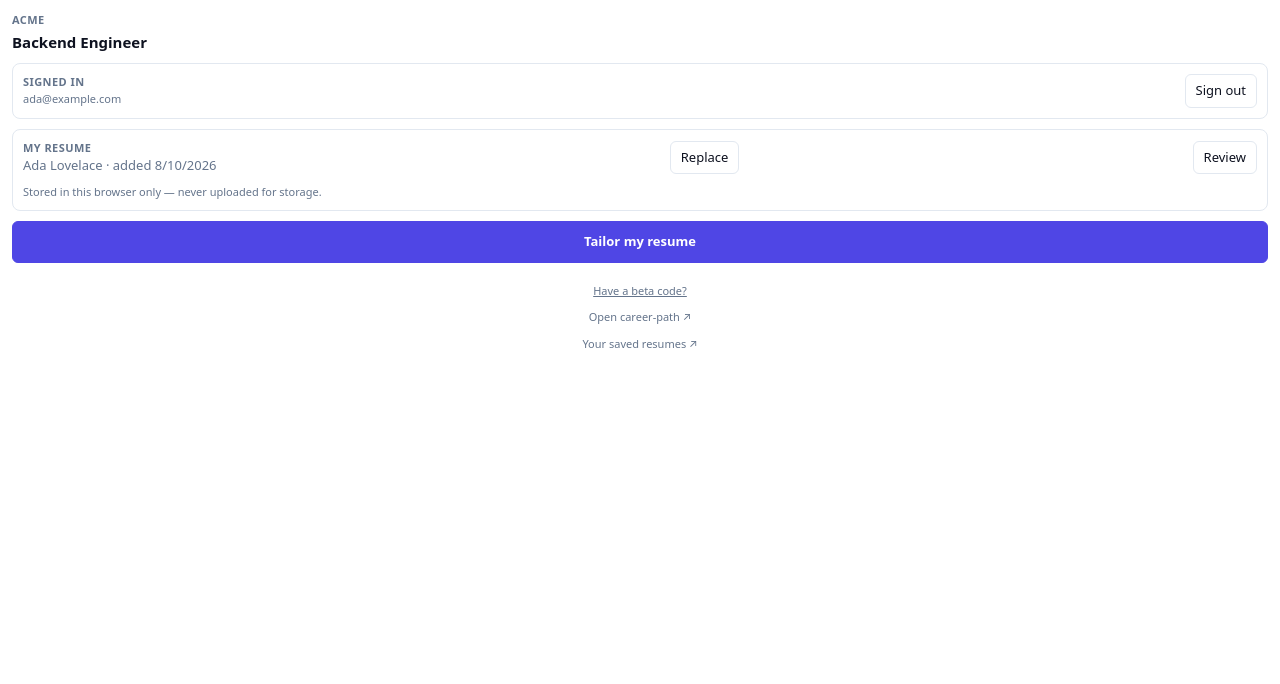
Test case: App - saving a tailored resume from the panel › moves from saving to saved once the request resolves
Click the button "Tailor my resume".
click(640, 242)  # box [12,221,1268,262]
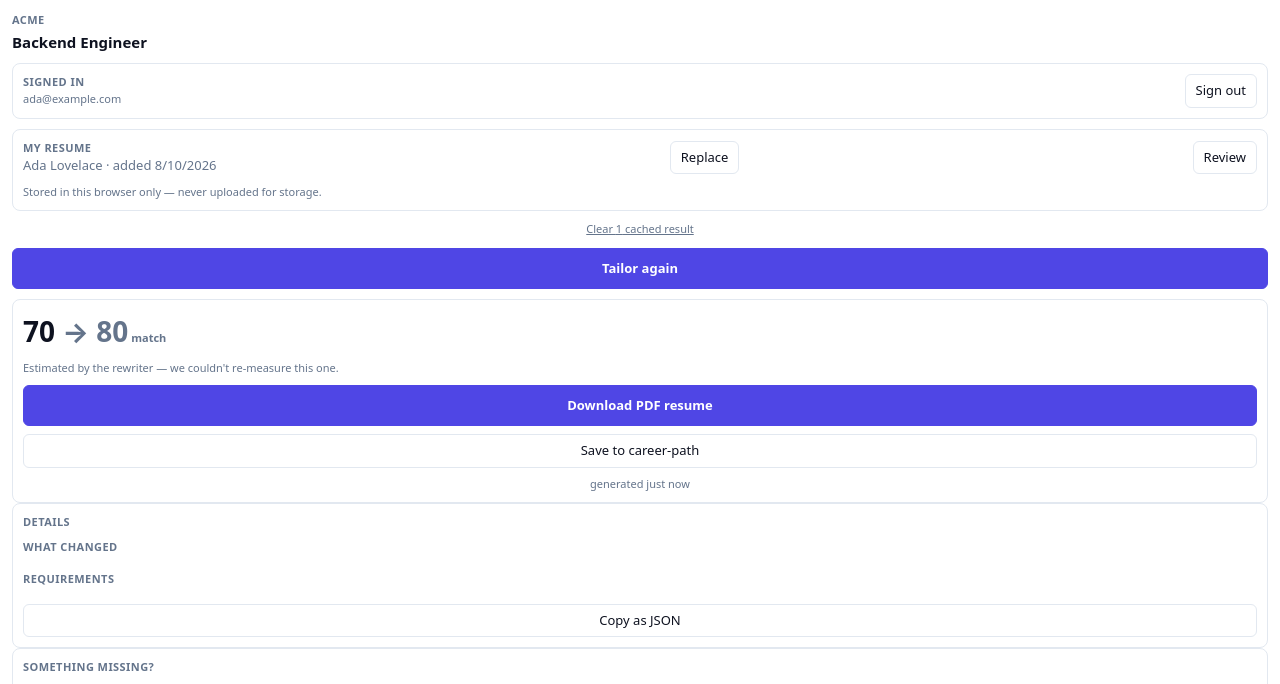
Click the button "Save to career-path".
click(640, 451)  # box [23,434,1257,468]
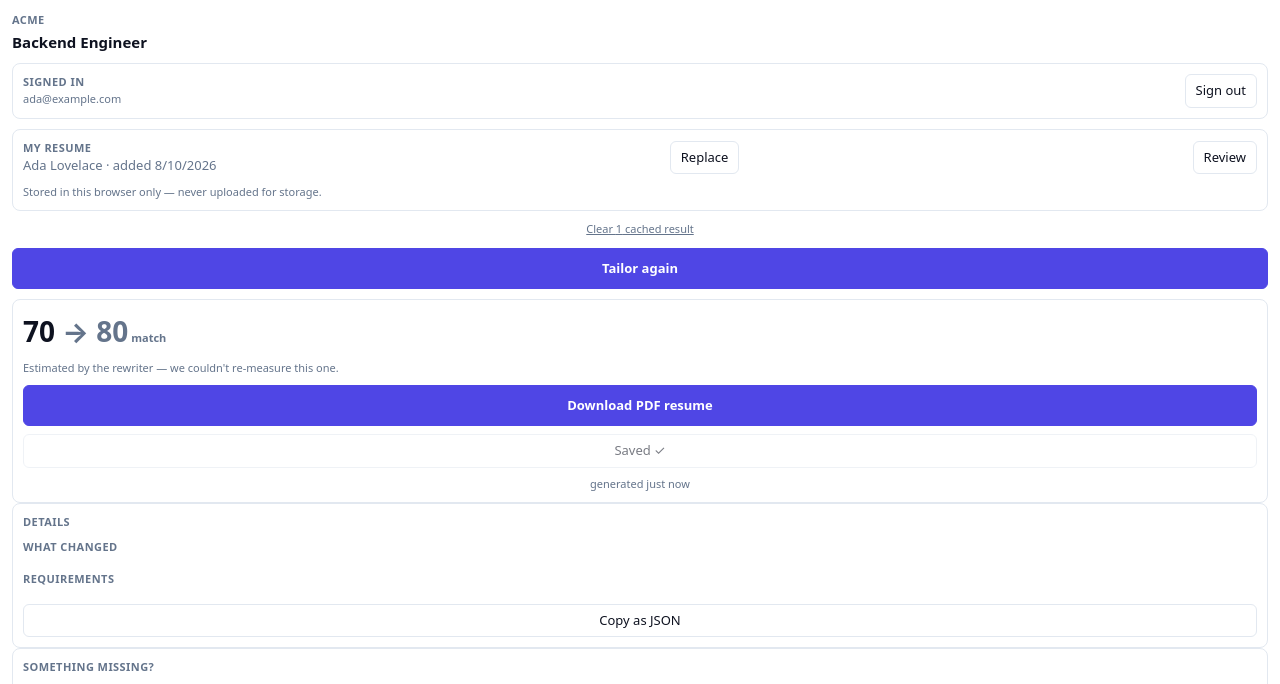
Expected: the button "Saved ✓" is disabled, [23,434,1257,468]
